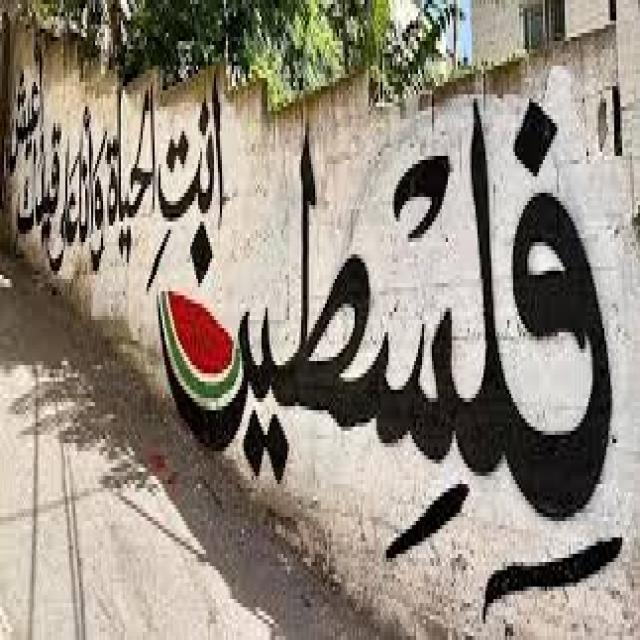-: (6, 50, 622, 618)
